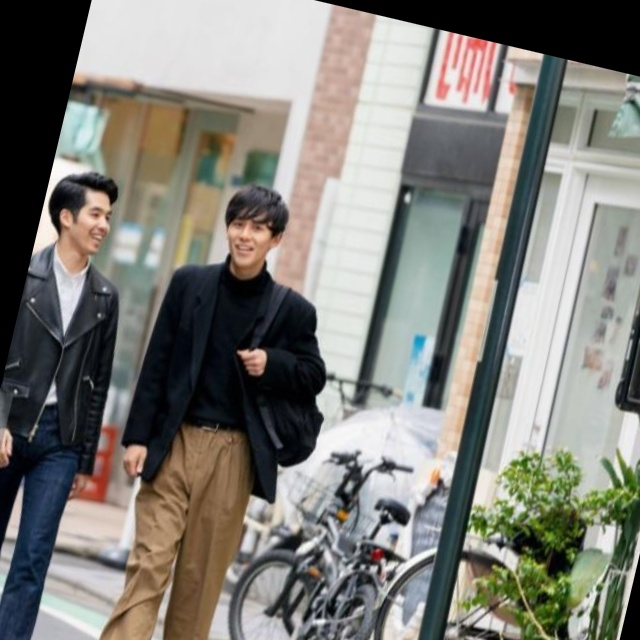Sin_Casco_Mascarrilla: (39, 161, 122, 260), (214, 179, 295, 276)
Sin_Chaleco: (130, 254, 322, 477), (0, 249, 131, 463)
